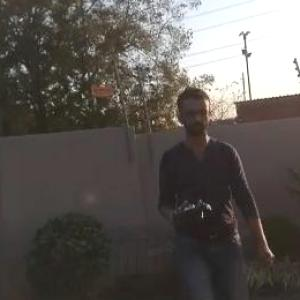follow: (153, 82, 282, 299)
